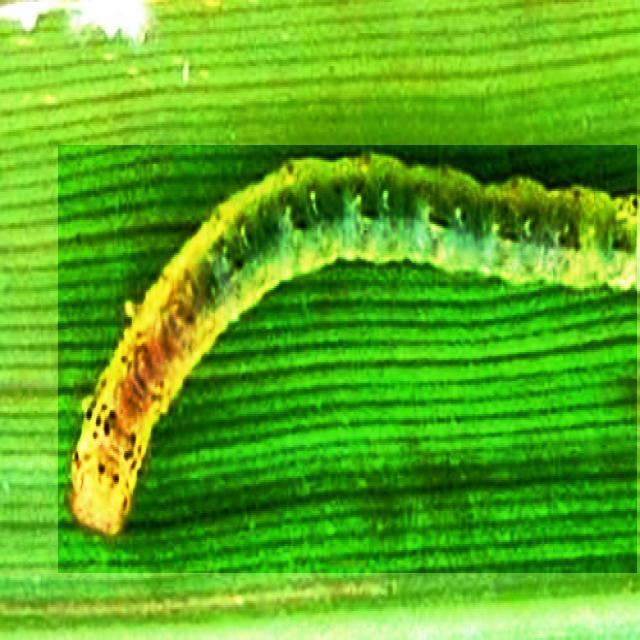leaf-folder: (58, 146, 637, 573)
